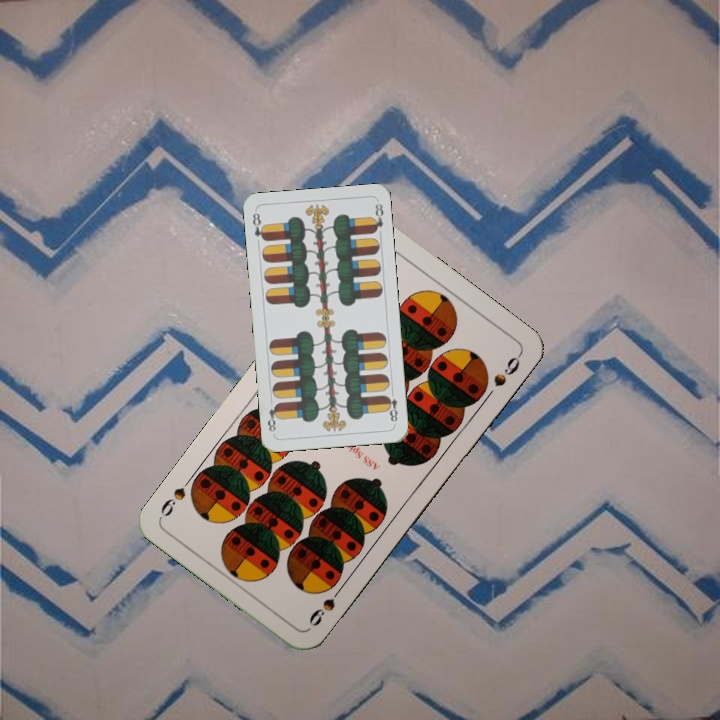E8: (382, 386, 400, 425), (248, 209, 268, 244)
S9: (305, 580, 347, 629)
